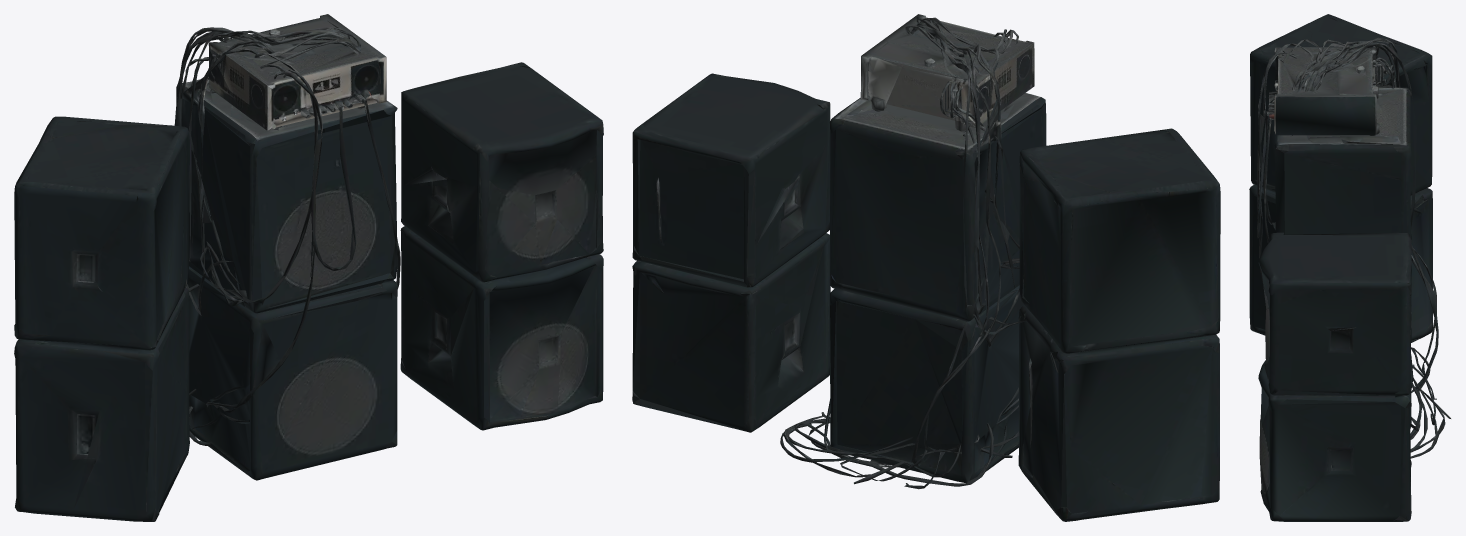
The model's file is fv_speakers.glb.
The picture shows the model from 3 angles, left to right: view 1: azimuth 30°, elevation 25°; view 2: azimuth 150°, elevation 25°; view 3: azimuth 270°, elevation 25°; orthographic projection. The views are drawn at different scales.
Parts seen in each view (by area): view 1: fv_speakers; view 2: fv_speakers; view 3: fv_speakers.
Boxes of the visible parts, <box> form: fv_speakers: <box>14,14,603,521</box>; fv_speakers: <box>632,14,1220,521</box>; fv_speakers: <box>1249,14,1450,521</box>.
Size of the model in its own units: 1.8 by 1.29 by 0.6658.
1 material, 1 textured.
